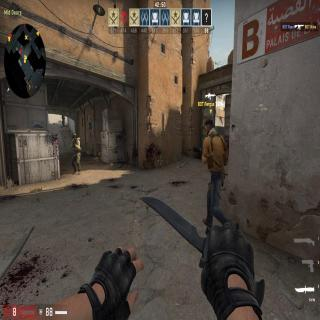CT-Body: (70, 133, 82, 175), (61, 116, 65, 126)
CT-Head: (72, 134, 78, 140)
